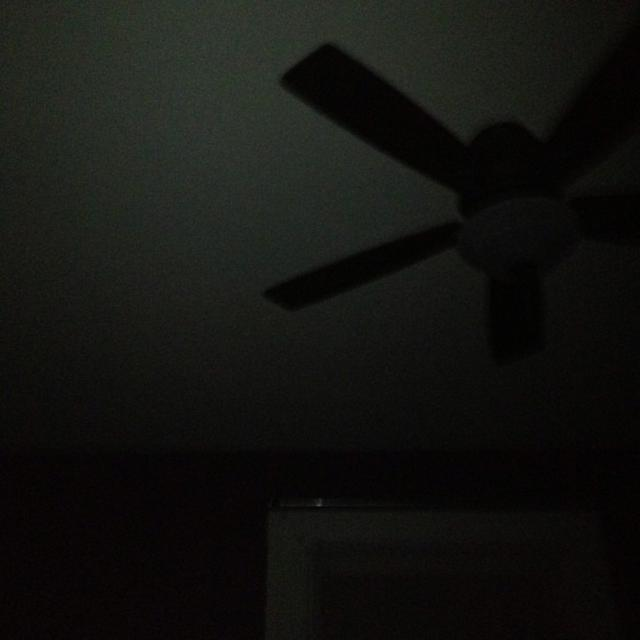Bulb: (261, 12, 639, 374)
